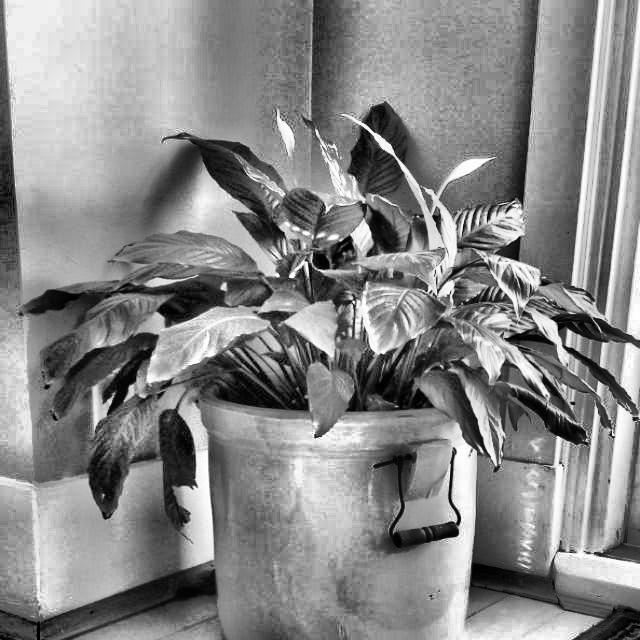plants: (0, 103, 639, 639), (0, 270, 208, 534)
